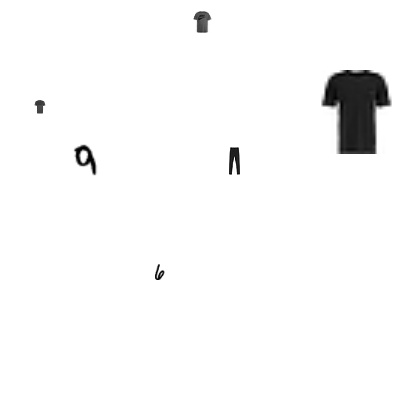6: (148, 262, 170, 284)
9: (64, 136, 106, 178)
T-shirt/top: (313, 70, 397, 154), (191, 11, 213, 33), (33, 100, 47, 114)
Trouser: (220, 147, 248, 175)
